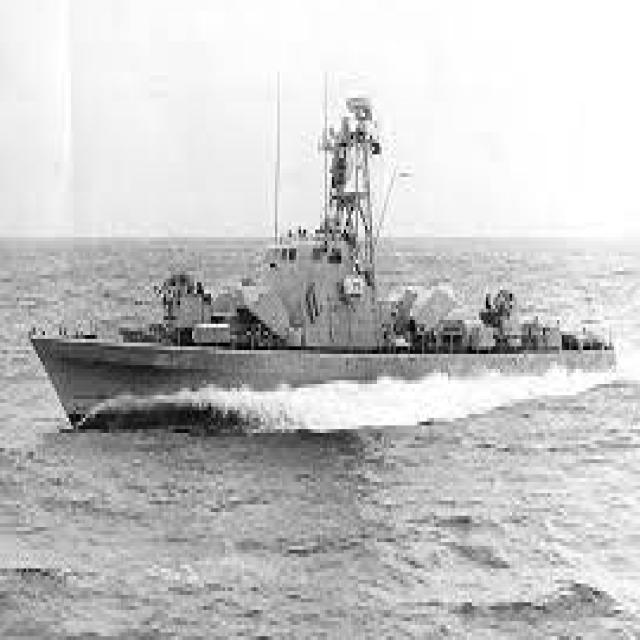navalvessels: (38, 44, 632, 473)
